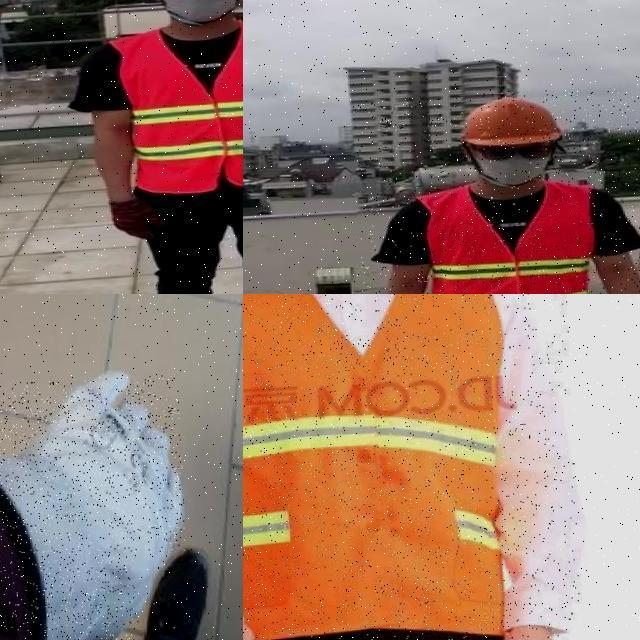boots: (132, 549, 216, 640)
helmet: (450, 91, 566, 150)
vest: (243, 294, 522, 640), (114, 19, 243, 196), (418, 183, 596, 294)
